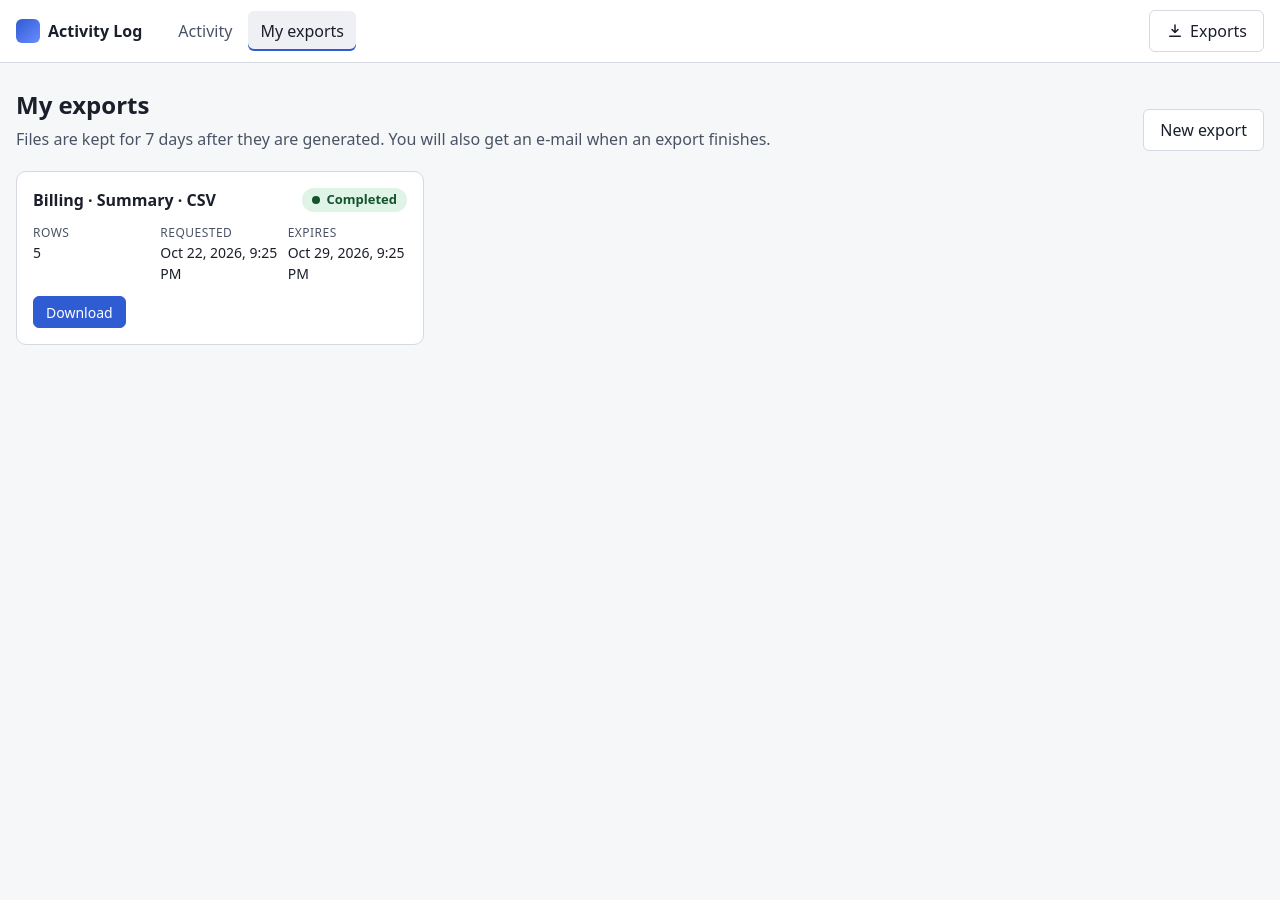
Test: Download › explains a 409 when the export is not ready
The image size is (1280, 900).
Click the button "Download": point(79, 312) [33,296,126,328]
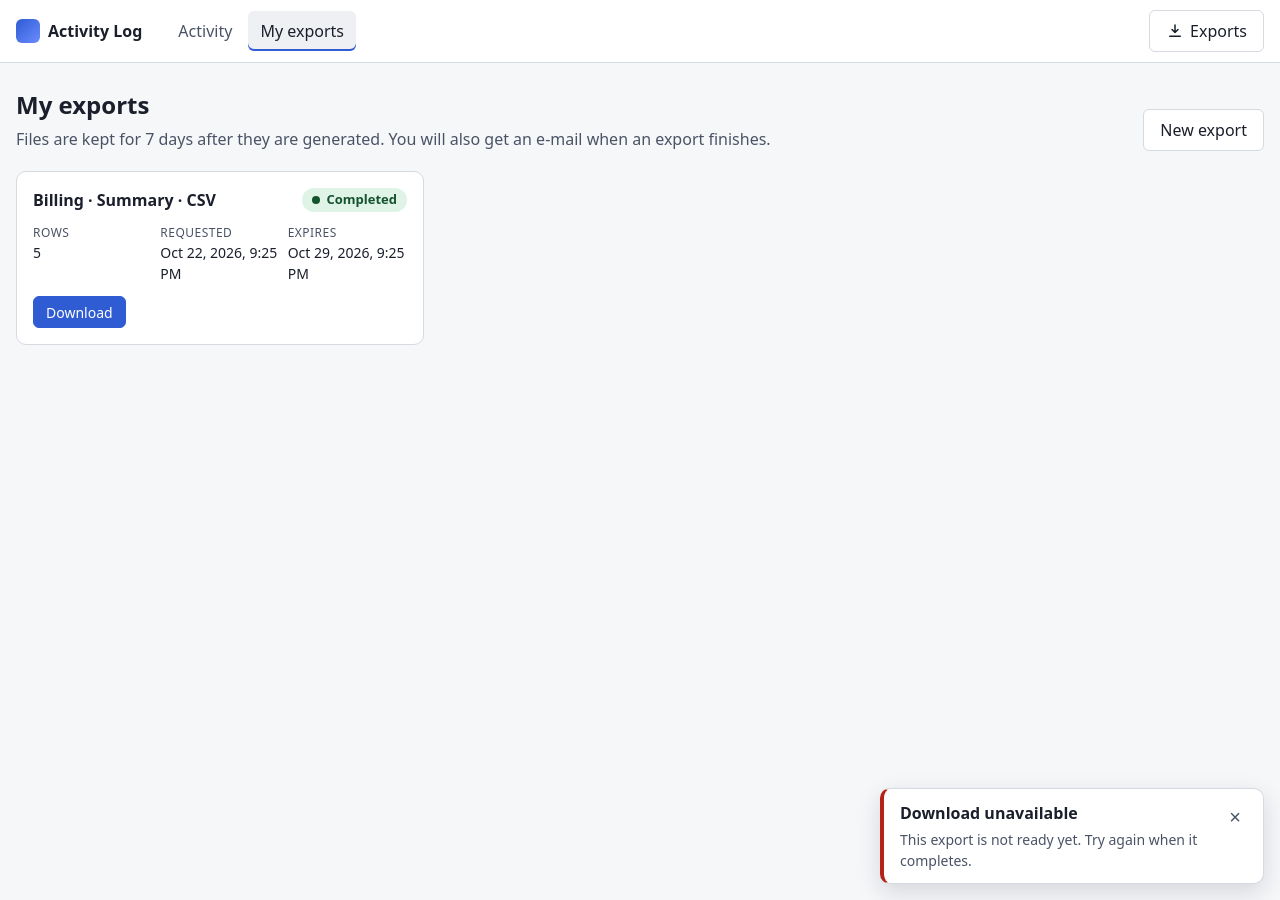
Result: the text "This export is not ready yet. Try again when it completes." is shown at [900,829,1207,871]
